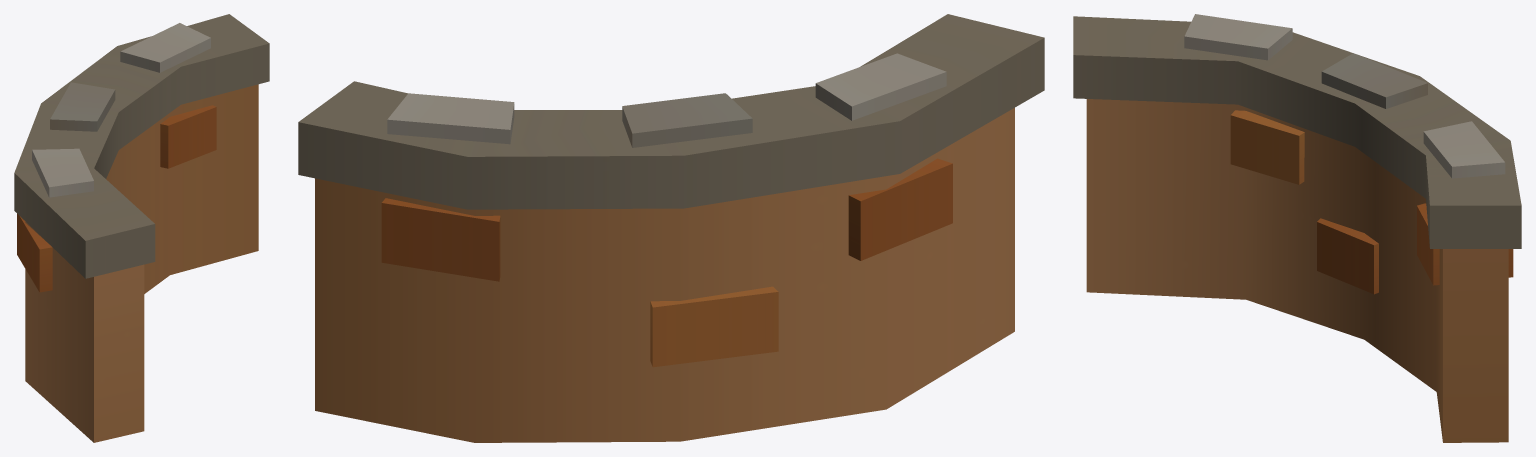
The model's file is SM_Wall_2.FBX.
3 renders of one model, left to right at view 1: azimuth 30°, elevation 25°; view 2: azimuth 150°, elevation 25°; view 3: azimuth 270°, elevation 25°, orthographic. The views are drawn at different scales.
Visible parts, largest first — view 1: SM_Wall_2; view 2: SM_Wall_2; view 3: SM_Wall_2.
Part boxes in pixels (bbox=[...]): SM_Wall_2: bbox=[14, 14, 269, 442]; SM_Wall_2: bbox=[298, 14, 1044, 442]; SM_Wall_2: bbox=[1073, 14, 1521, 442].
Size of what is drawn, in the model's own units: 328 by 328 by 203.
